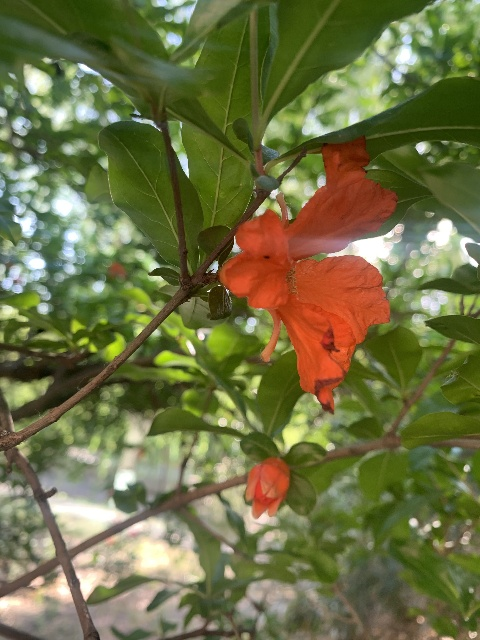flower: (219, 136, 394, 412), (244, 456, 290, 517)
